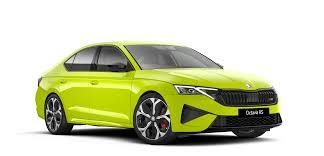skoda: (242, 79, 254, 90)
